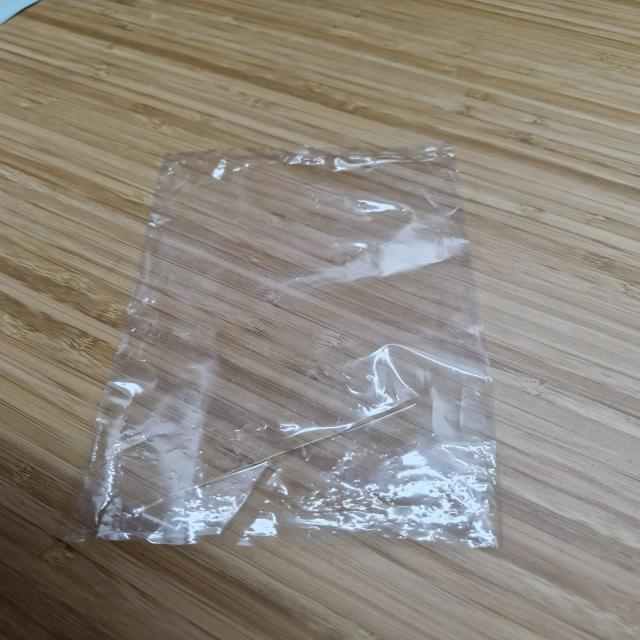plastic bag: (61, 150, 499, 548)
